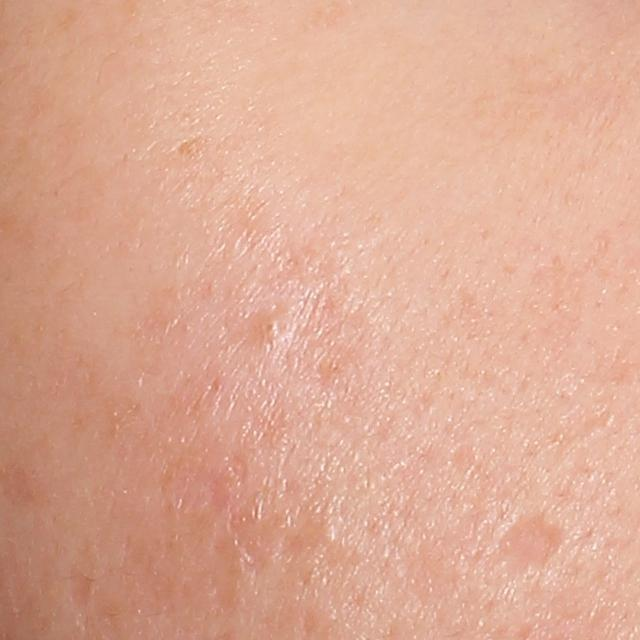atrophic_scar: (495, 505, 572, 574), (71, 541, 97, 621)
